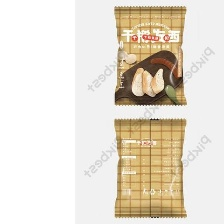snack: (107, 112, 194, 221), (107, 0, 193, 110)
